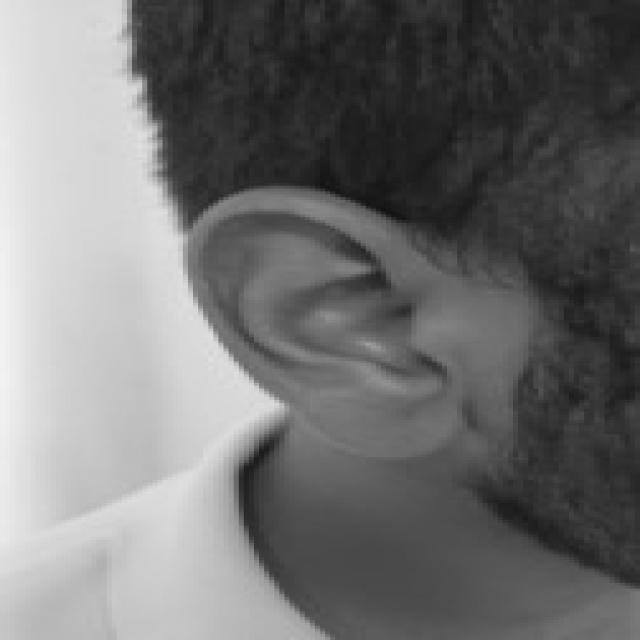ear: (183, 186, 457, 457)
